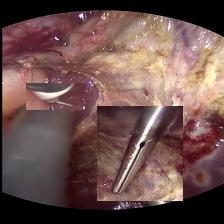Grasper: (96, 106, 182, 201)
Hook: (25, 83, 83, 110)
